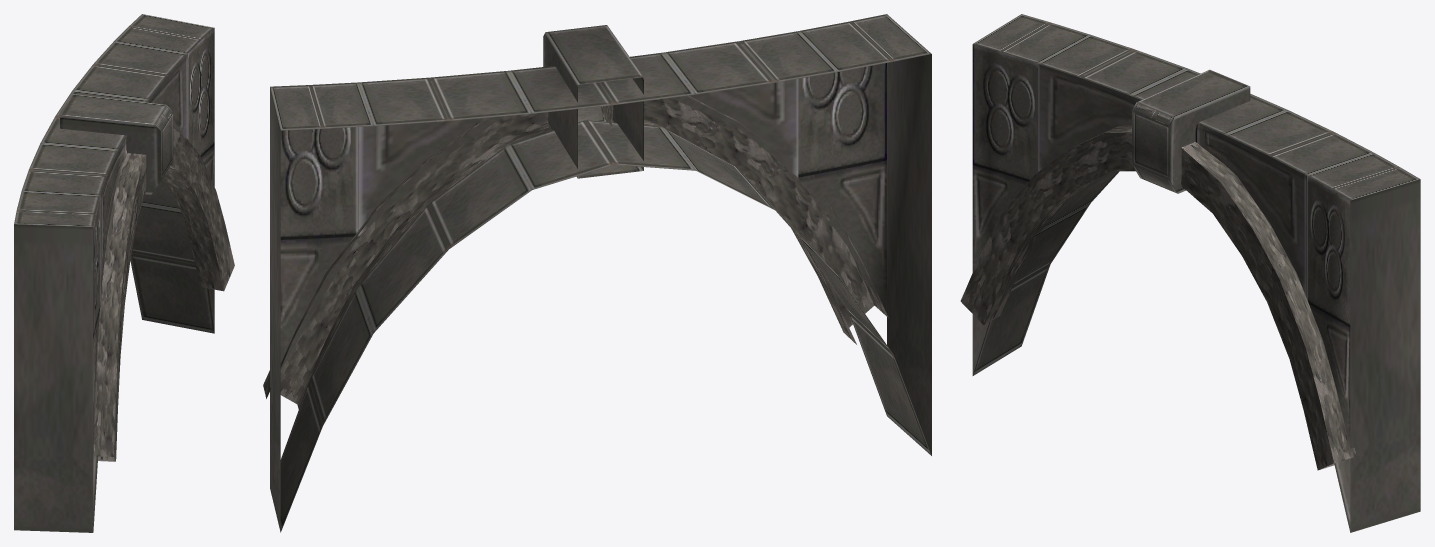
The model's file is CH09_SMAUG_PLAYSURFACE_LAIR38.fbx.
3 views of the same model, side by side, from view 1: azimuth 30°, elevation 25°; view 2: azimuth 150°, elevation 25°; view 3: azimuth 270°, elevation 25° (orthographic). The views are drawn at different scales.
Parts seen in each view (by area): view 1: CH09_SMAUG_PLAYSURFACE_LAIR38; view 2: CH09_SMAUG_PLAYSURFACE_LAIR38; view 3: CH09_SMAUG_PLAYSURFACE_LAIR38.
Boxes of the visible parts, x1,y1,x2,y2 form: CH09_SMAUG_PLAYSURFACE_LAIR38: (14,14,234,532); CH09_SMAUG_PLAYSURFACE_LAIR38: (263,14,931,532); CH09_SMAUG_PLAYSURFACE_LAIR38: (960,14,1420,532).
Bounding box in the file's own units: 95278 × 79711 × 95805.
Materials: 3 (3 with a texture image).
